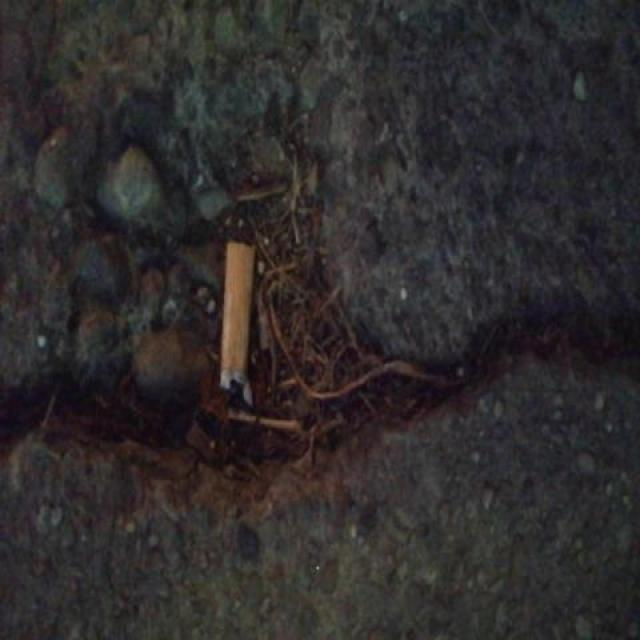non-organic waste: (216, 233, 260, 415)
